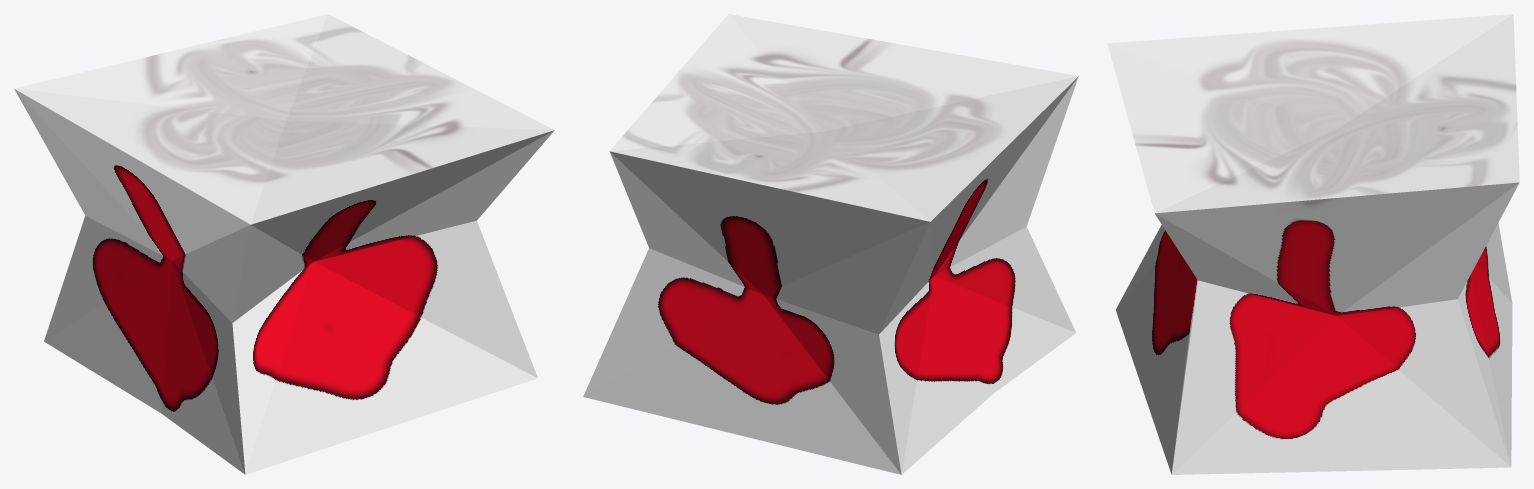
The model's file is boxud.obj.
The picture shows the model from 3 angles, left to right: view 1: azimuth 30°, elevation 25°; view 2: azimuth 150°, elevation 25°; view 3: azimuth 270°, elevation 25°; orthographic projection. The views are drawn at different scales.
Parts seen in each view (by area): view 1: 立方体.001; view 2: 立方体.001; view 3: 立方体.001.
Boxes of the visible parts, bbox=[...] form: 立方体.001: bbox=[14, 14, 554, 474]; 立方体.001: bbox=[583, 14, 1078, 474]; 立方体.001: bbox=[1107, 14, 1519, 474].
Bounding box in the file's own units: 1.77 × 1.19 × 1.62.
